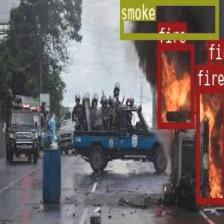fire: (195, 86, 224, 202), (156, 43, 194, 128), (207, 38, 221, 86)
smoke: (119, 0, 217, 38)
